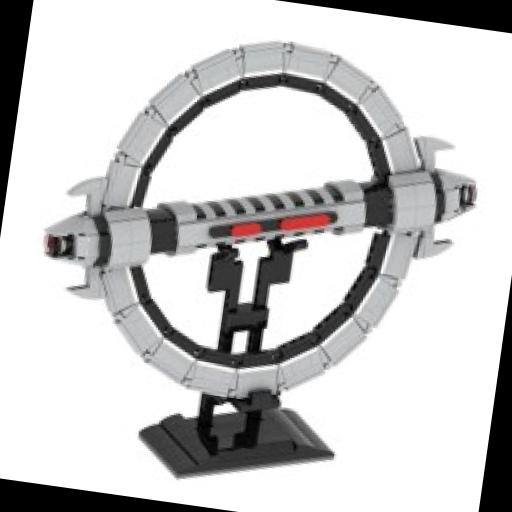lightsaber: (35, 84, 483, 360)
